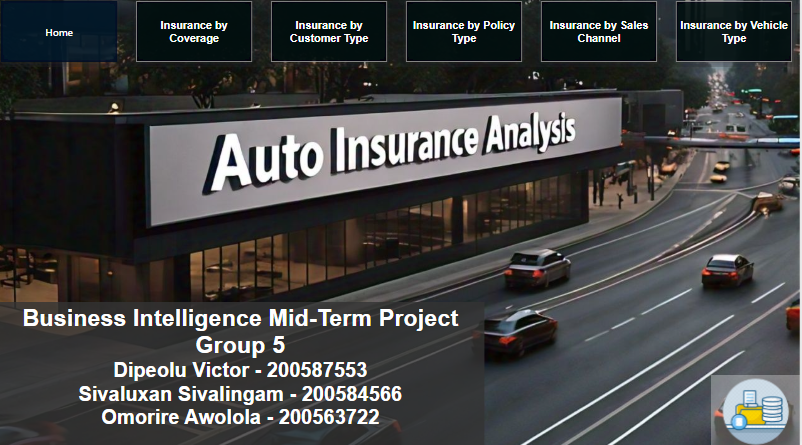

This screenshot's page, from the dashboard's own definition file:
{"tool":"powerbi","page":{"name":"Home","canvas":[1280,720],"ordinal":0},"visuals":[{"type":"pageNavigator","box":[0,0,1280,113.3],"z":0},{"type":"actionButton","box":[1138.3,603.3,141.7,116.7],"z":1000},{"type":"textbox","box":[0,486.7,778.3,233.3],"z":2000}]}

Visuals, with their boxes in screenshot pixels (x1, y1, x2, y2), scaled from the page's 1280x720 canvas onto the 802x445 screenshot:
pageNavigator: locate(0, 0, 801, 70)
actionButton: locate(713, 373, 801, 444)
textbox: locate(0, 301, 488, 444)
